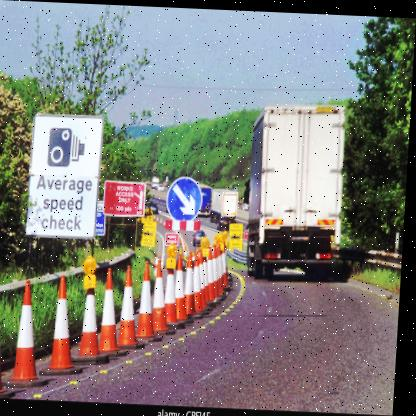Keep right: (167, 171, 206, 222)
